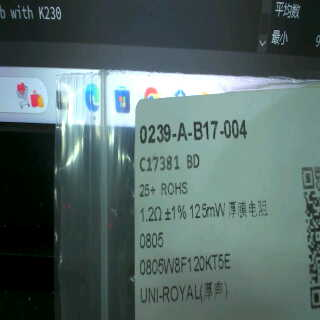1.2R: (137, 205, 164, 252)
